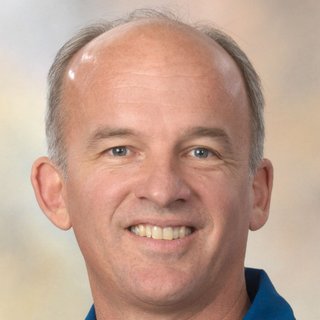eye: (91, 140, 144, 163), (179, 140, 223, 167)
